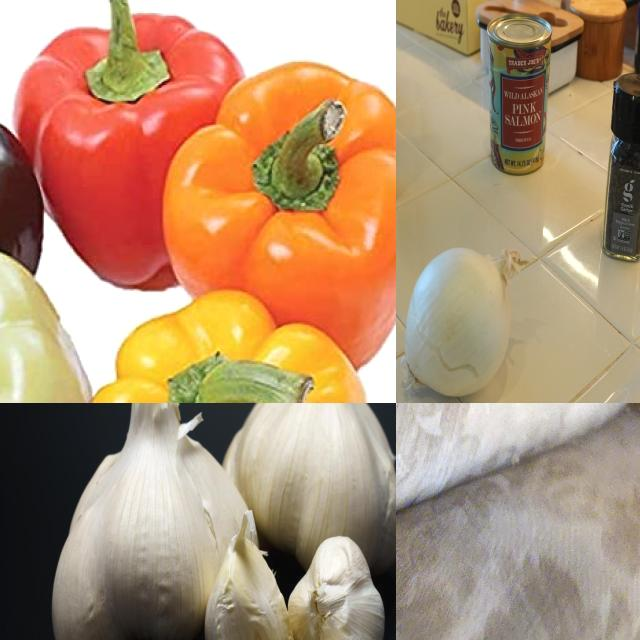bell_pepper: (163, 61, 397, 366), (21, 1, 251, 298), (82, 289, 359, 404), (603, 73, 640, 261)
garlic: (48, 404, 252, 640), (222, 404, 397, 570), (288, 542, 394, 640), (209, 531, 297, 640)
onion: (397, 242, 516, 404)
